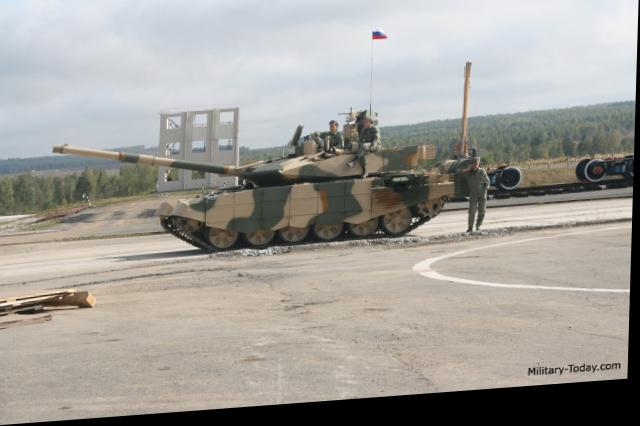other: (464, 160, 493, 234), (351, 120, 379, 180), (317, 120, 348, 160)
tank: (170, 122, 459, 258)
